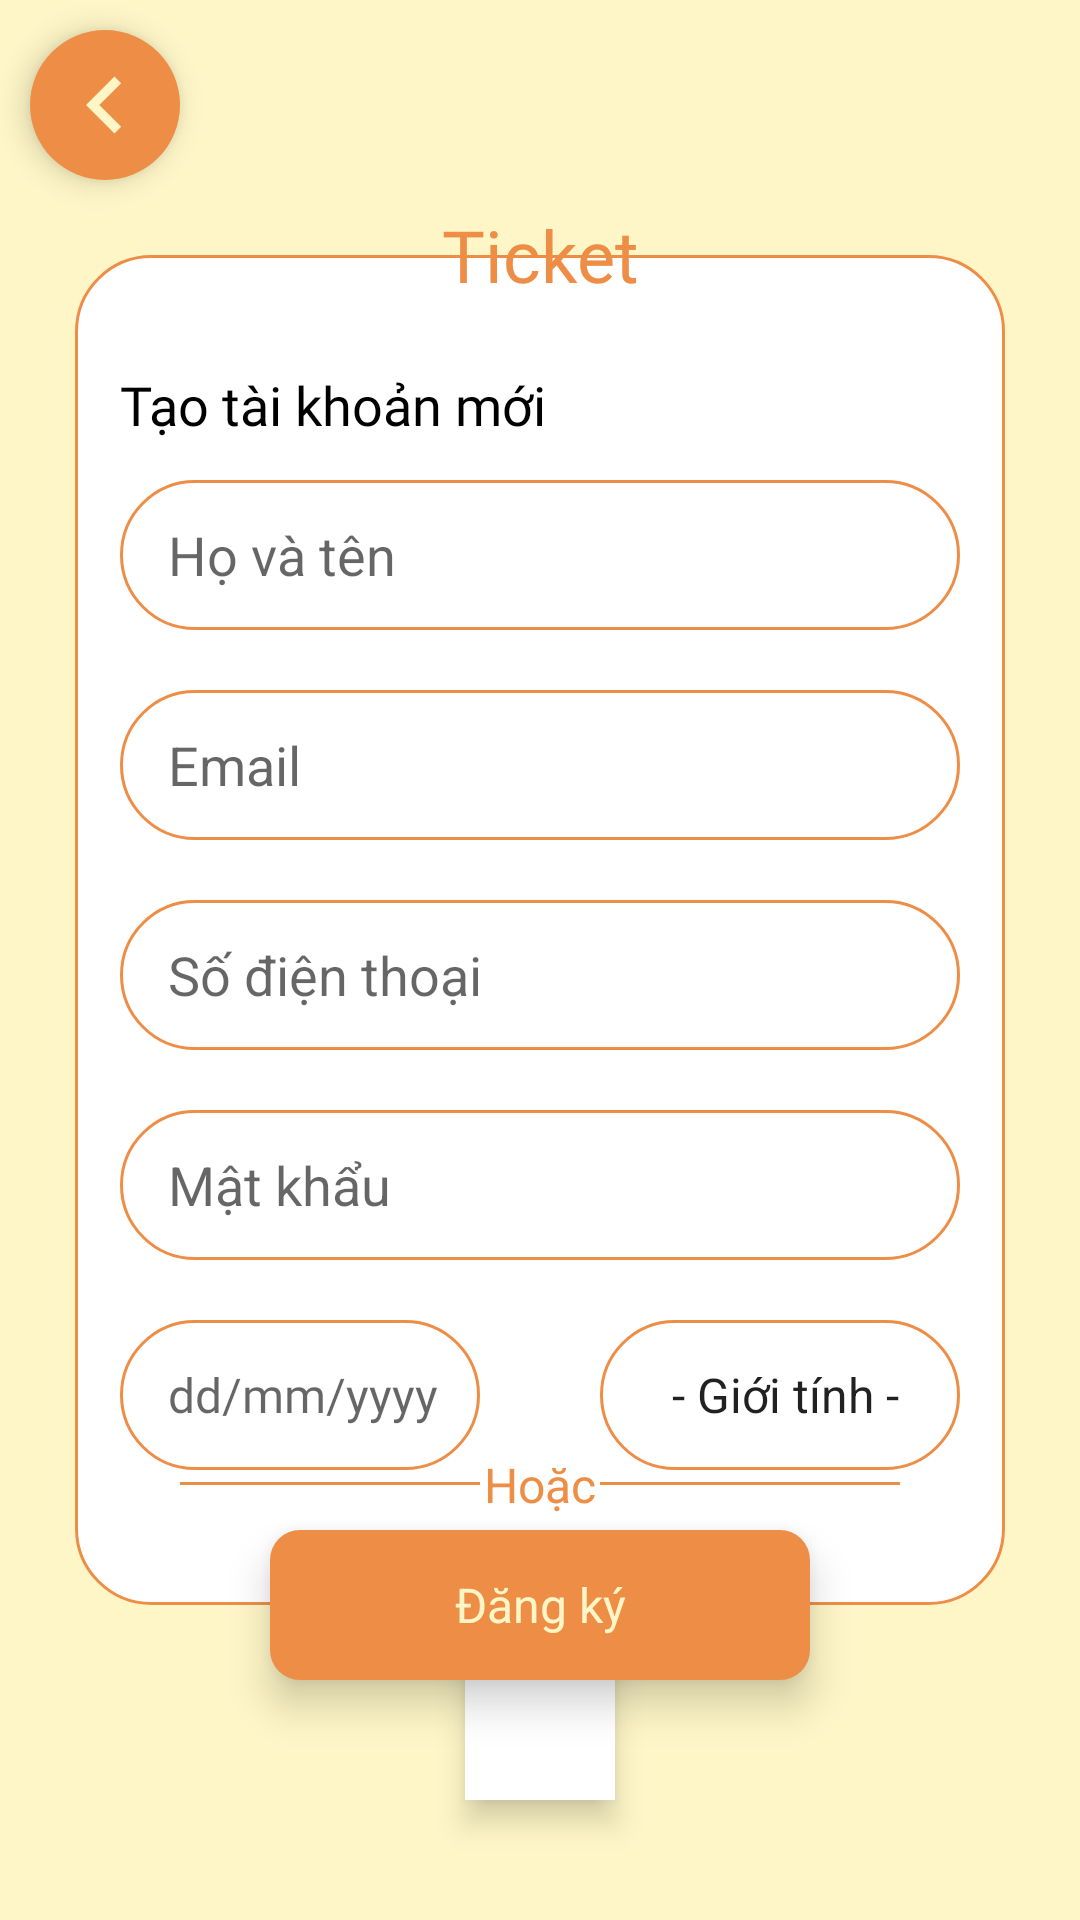

Where icons sit on this 1080px×1920px app screen, as (x1, y1, x2, y2):
chevron left: (30, 30, 180, 180)
